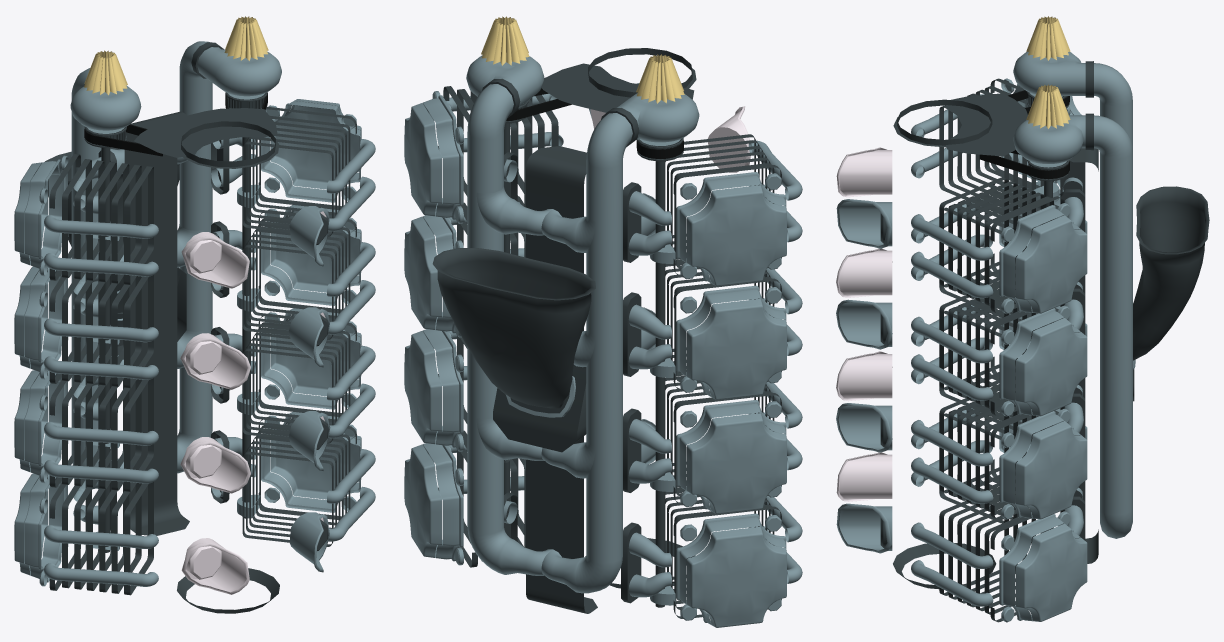
File: fant_customizable_engine_v8-test.fbx
The picture shows the model from 3 angles, left to right: view 1: azimuth 30°, elevation 25°; view 2: azimuth 150°, elevation 25°; view 3: azimuth 270°, elevation 25°; orthographic projection. The views are drawn at different scales.
Parts seen in each view (by area): view 1: fant_customizable_engine_v8; view 2: fant_customizable_engine_v8; view 3: fant_customizable_engine_v8.
Boxes of the visible parts, x1,y1,x2,y2 form: fant_customizable_engine_v8: (14, 16, 375, 613); fant_customizable_engine_v8: (404, 16, 802, 627); fant_customizable_engine_v8: (836, 16, 1209, 622).
Size of the model in its own units: 497 by 723 by 473.
